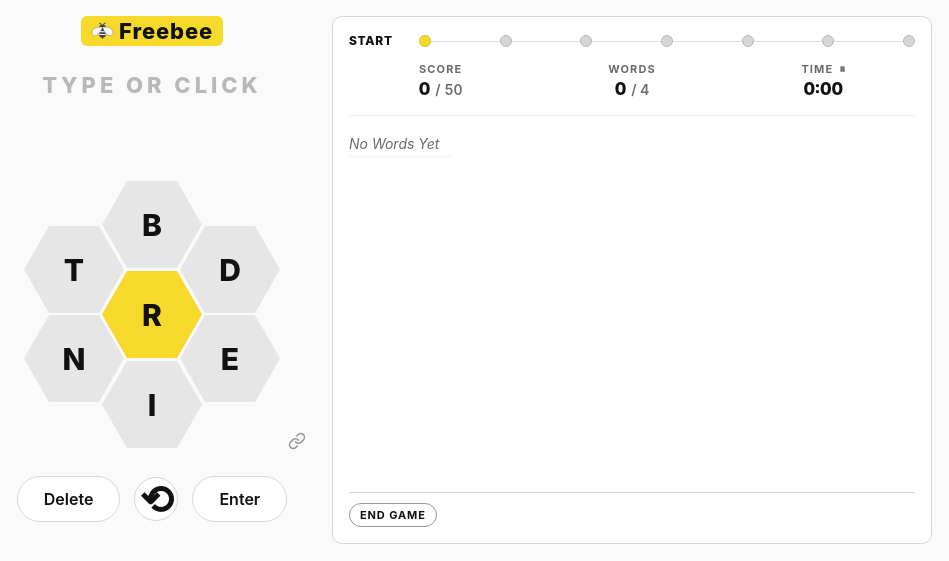
Test: Game interactions › Delete button removes the last character
Type keys "abc"
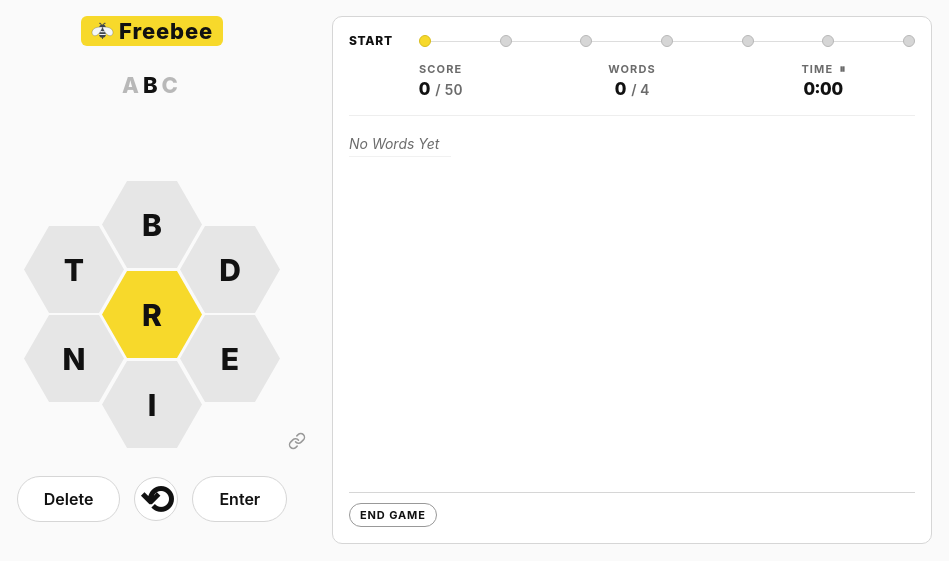
Check: the element with class "WordInput" reads "A B C", box [122,72,182,98]
Click the button "Delete".
click(69, 499)  # box [17,476,120,522]
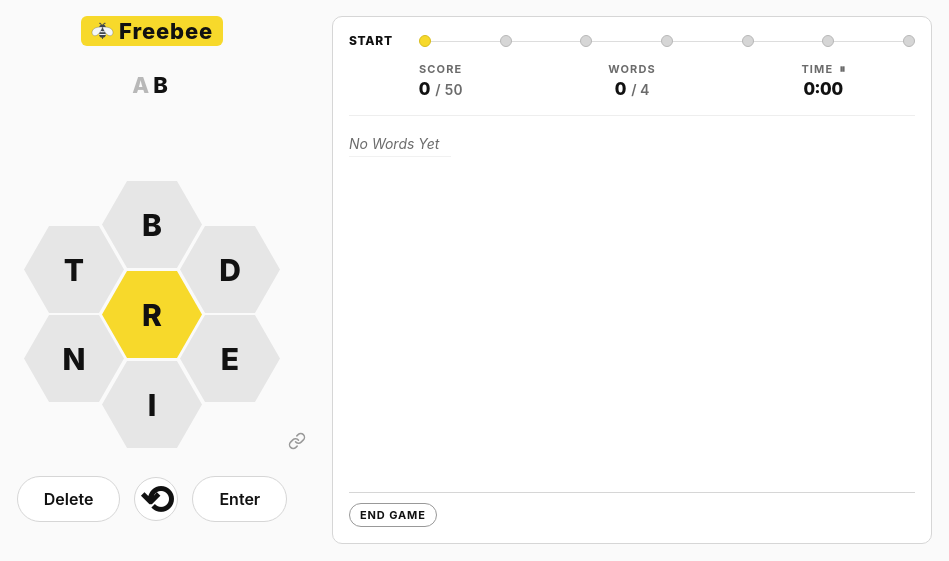
Check: the element with class "WordInput" reads "A B", box [132,72,172,98]
